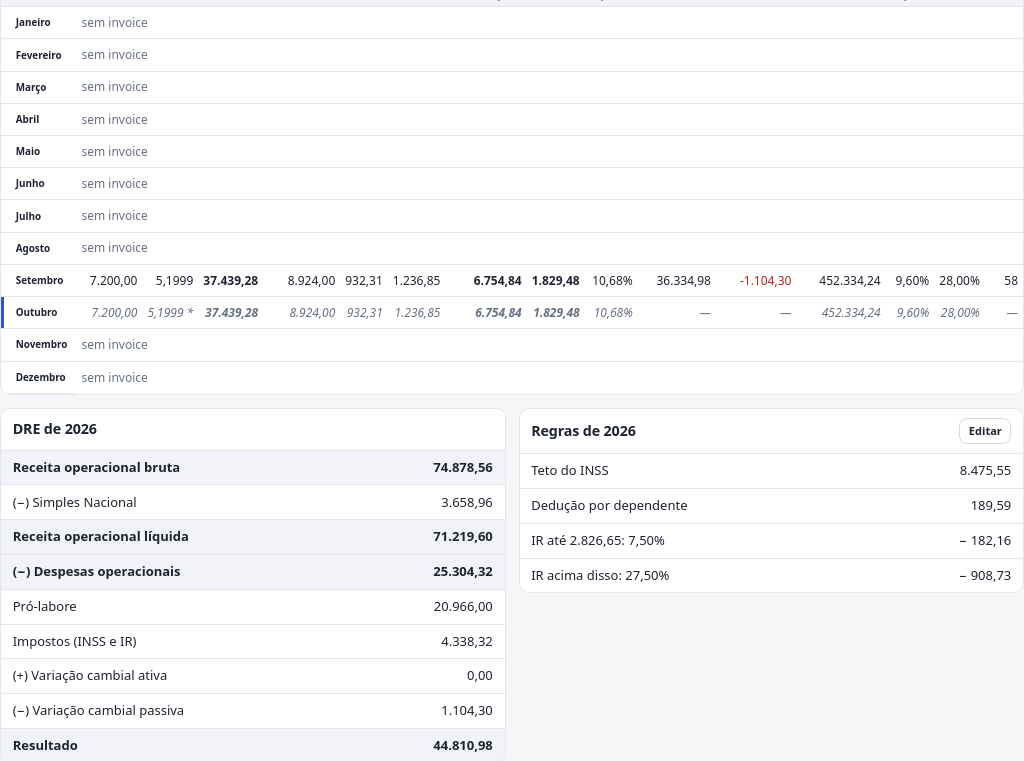
CompanyPage › keeps the form open with the message when the central bank has no quote yet
(page scrolled)
Click the button "Dezembro": (42, 377) [13, 367, 70, 388]
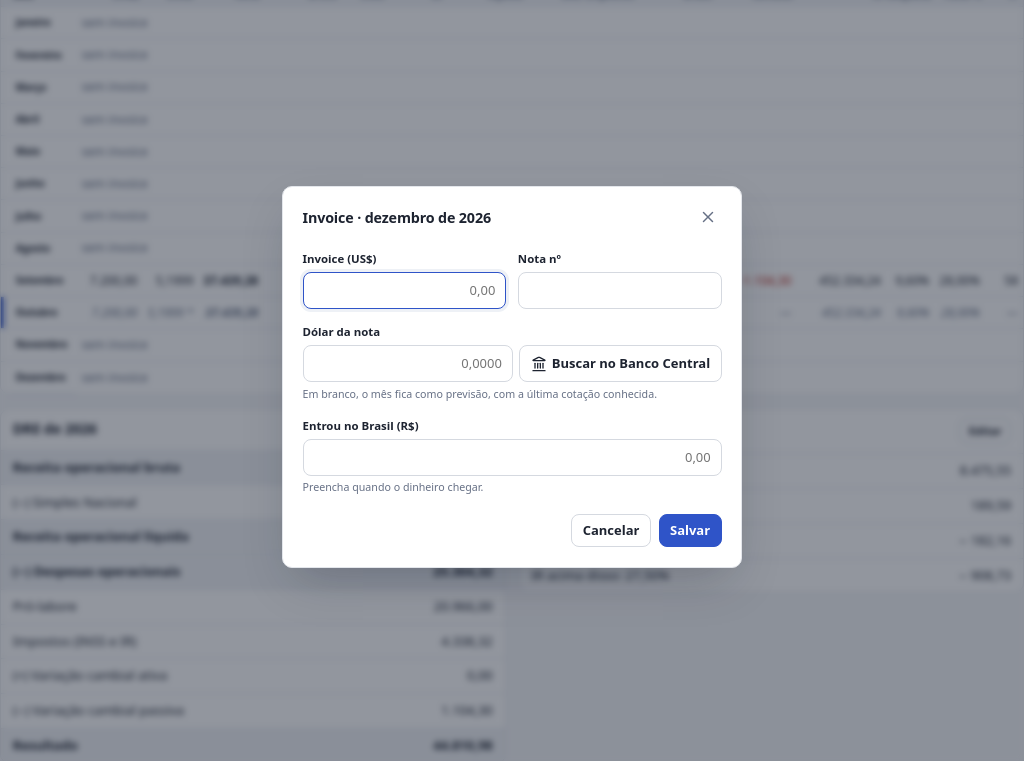
Click the button "Buscar no Banco Central": (620, 364) [519, 345, 722, 382]
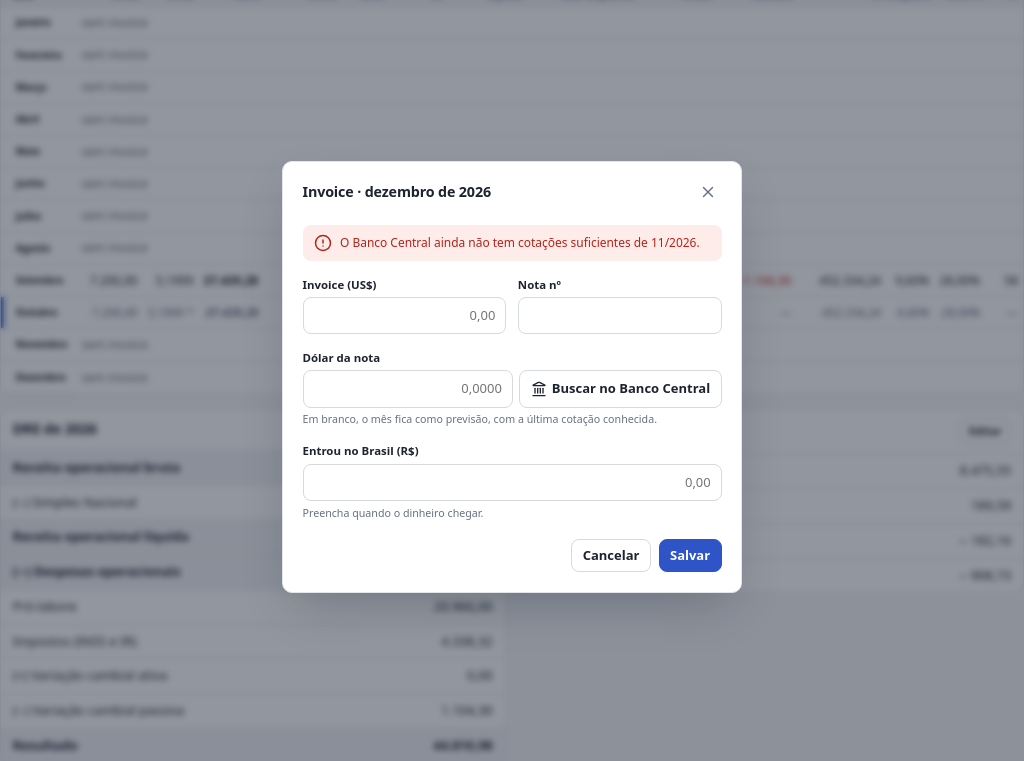
Result: the button "Salvar" is enabled at [659, 539, 722, 572]
Result: the message shows "ainda não tem cotações suficientes" at [340, 234, 700, 251]
